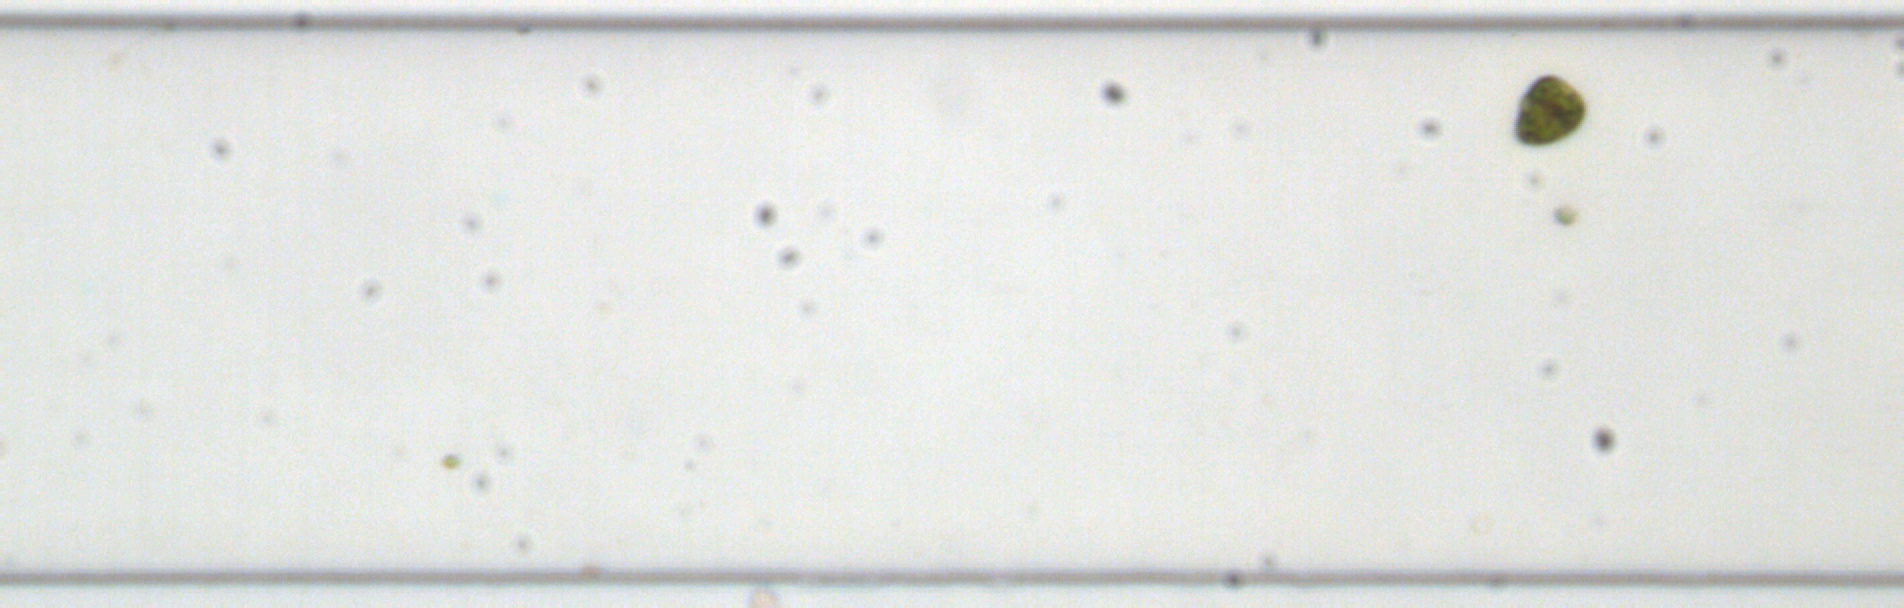Chlorella: (1551, 201, 1577, 226), (441, 451, 458, 468)
Haematococcus: (1508, 73, 1589, 149)
